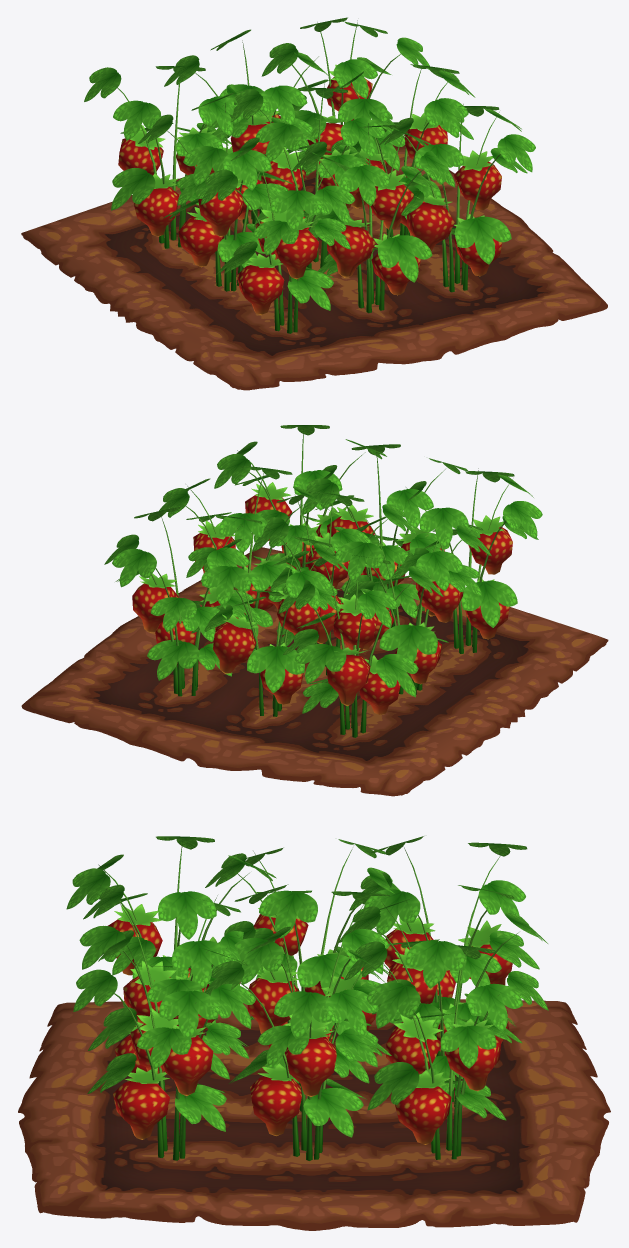
The model's file is Strawberry_Field_Lv3.FBX.
3 views of the same model, one above another, from view 1: azimuth 30°, elevation 25°; view 2: azimuth 150°, elevation 25°; view 3: azimuth 270°, elevation 25° (orthographic). The views are drawn at different scales.
Visible parts, largest first — view 1: Strawberry_Field_Lv3; view 2: Strawberry_Field_Lv3; view 3: Strawberry_Field_Lv3.
Part boxes in pixels (x1,y1,x2,y2): Strawberry_Field_Lv3: [21, 17, 607, 390]; Strawberry_Field_Lv3: [21, 425, 608, 796]; Strawberry_Field_Lv3: [18, 836, 610, 1230].
Bounding box in the file's own units: 274 × 111 × 296.
